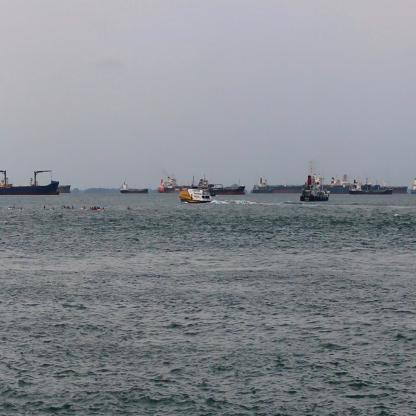Container Ship: (252, 172, 346, 194), (0, 168, 63, 196), (341, 171, 411, 193), (300, 158, 332, 203), (200, 173, 249, 196), (159, 170, 200, 194), (351, 176, 397, 195), (31, 176, 73, 192), (120, 175, 151, 195)
